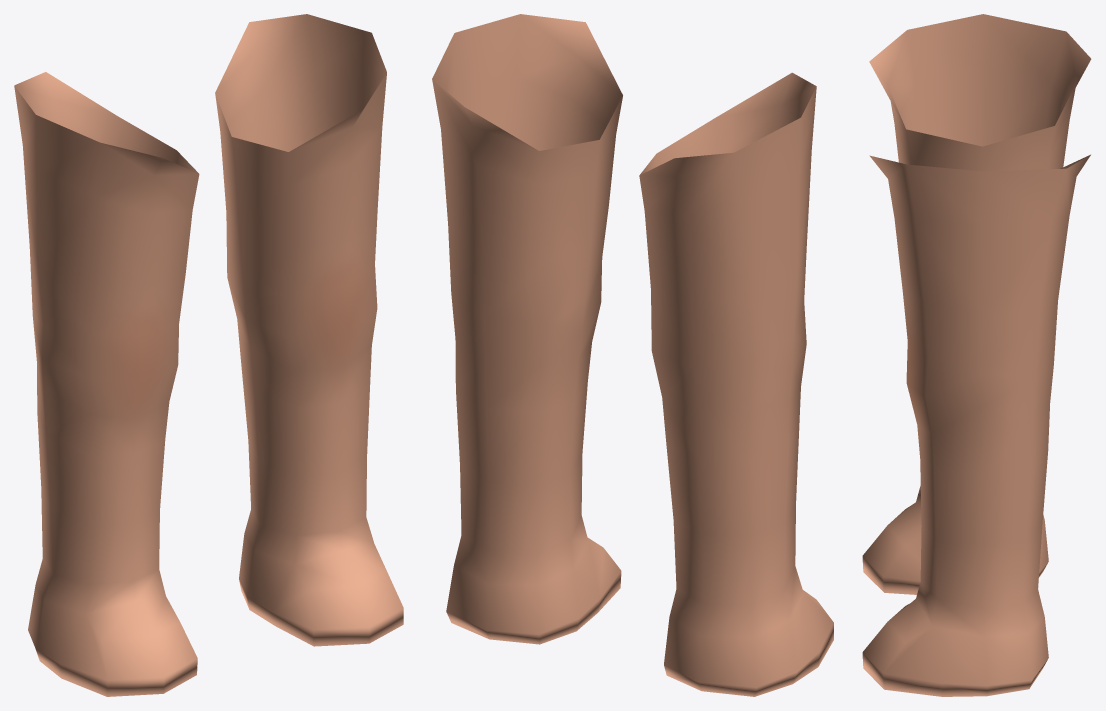
File: Body_Yellow_LegC_1.fbx
3 renders of one model, left to right at view 1: azimuth 30°, elevation 25°; view 2: azimuth 150°, elevation 25°; view 3: azimuth 270°, elevation 25°, orthographic. The views are drawn at different scales.
Parts seen in each view (by area): view 1: Body_Yellow_LegC_1; view 2: Body_Yellow_LegC_1; view 3: Body_Yellow_LegC_1.
Part boxes in pixels (<box>): Body_Yellow_LegC_1: <box>14,14,403,696</box>; Body_Yellow_LegC_1: <box>432,14,833,696</box>; Body_Yellow_LegC_1: <box>862,14,1091,696</box>.
Size of the model in its own units: 33.18 by 51.84 by 20.39.
